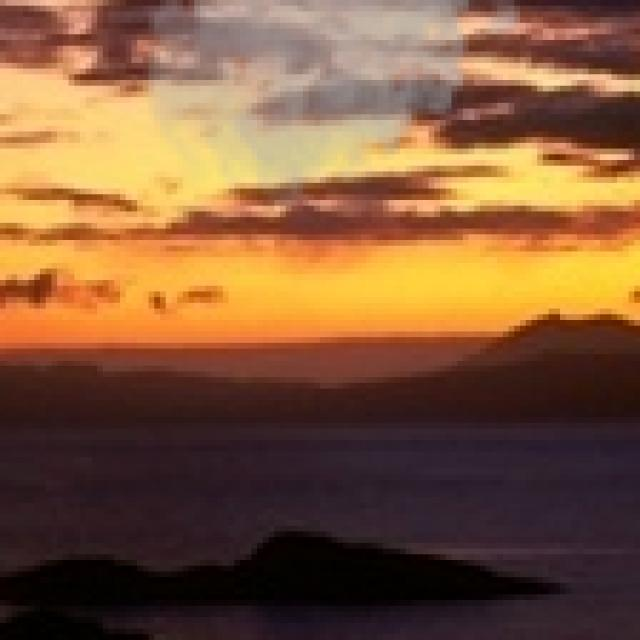smoke: (132, 0, 548, 223)
